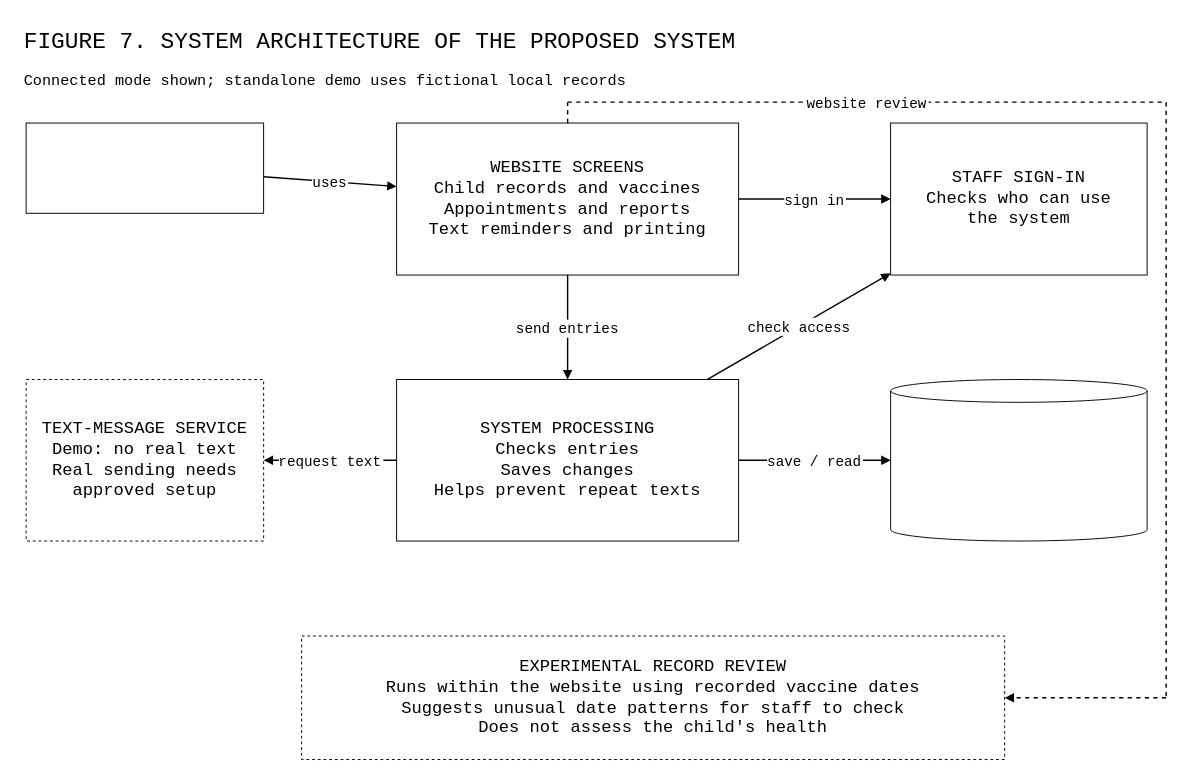
The diagram is 1190 pixels wide and 776 high, and some of its shapes have lost their labels. Each missing label, with the centre of its shape:
"HEALTH CENTER STAFF Health worker or midwife" belongs at point (144, 167).
"SAVED RECORDS Children and doses Appointments Messages Staff accounts" belongs at point (1018, 460).
